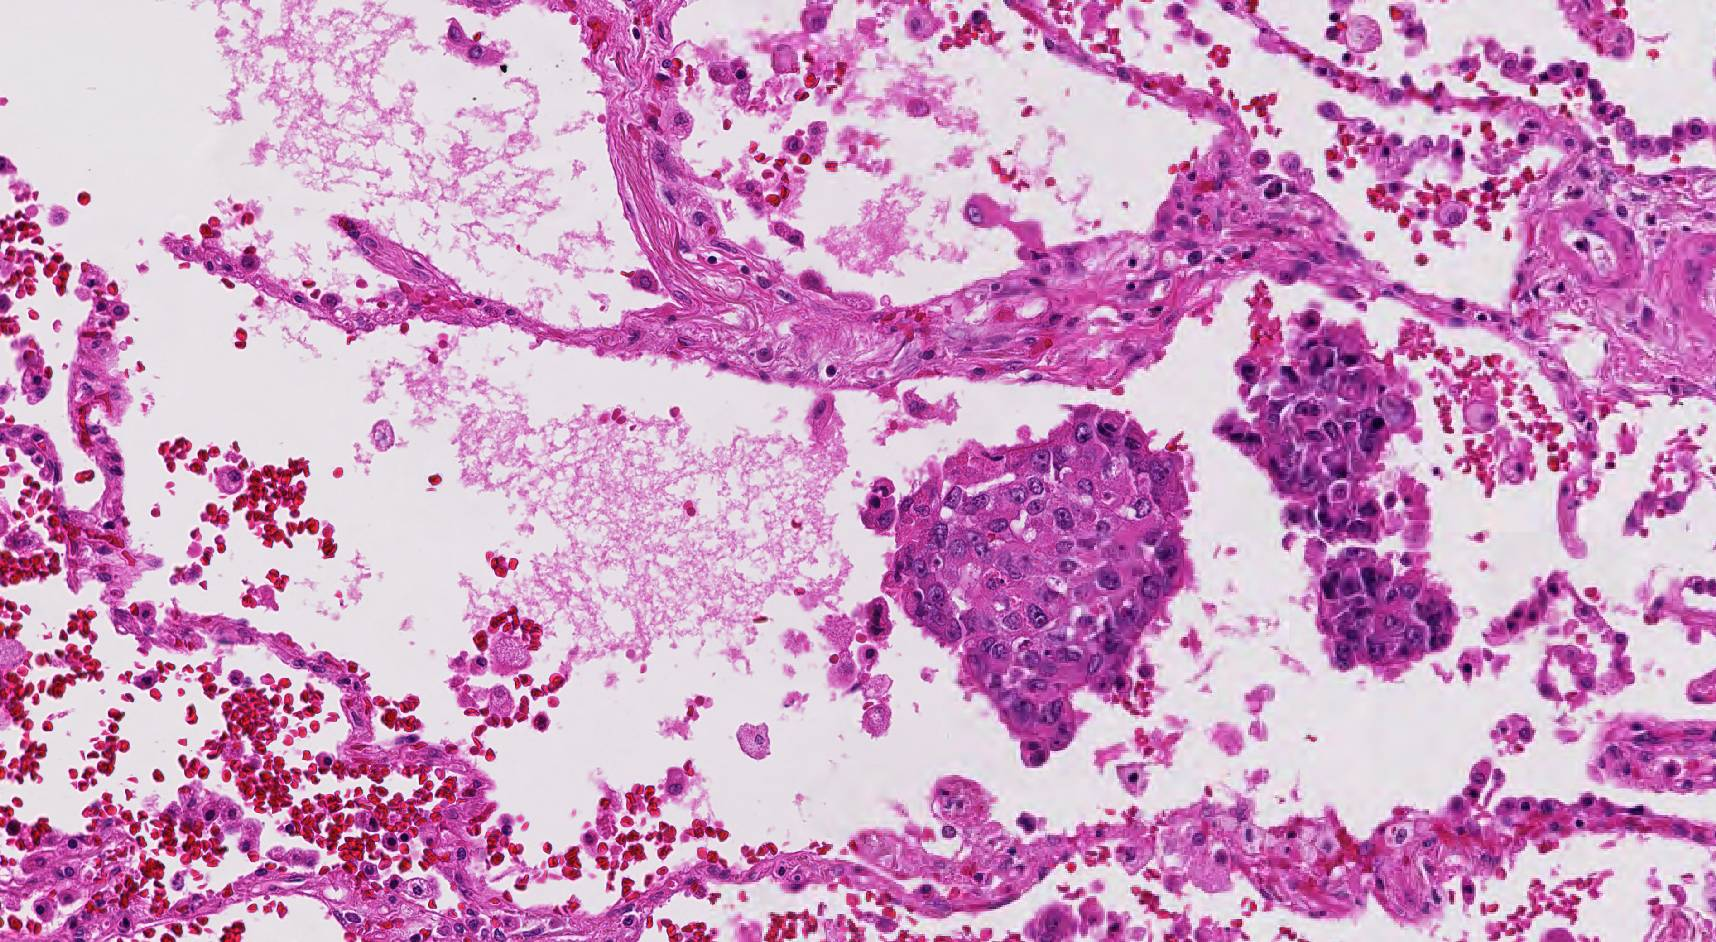stas: (879, 404, 1188, 767), (1219, 313, 1455, 671)
